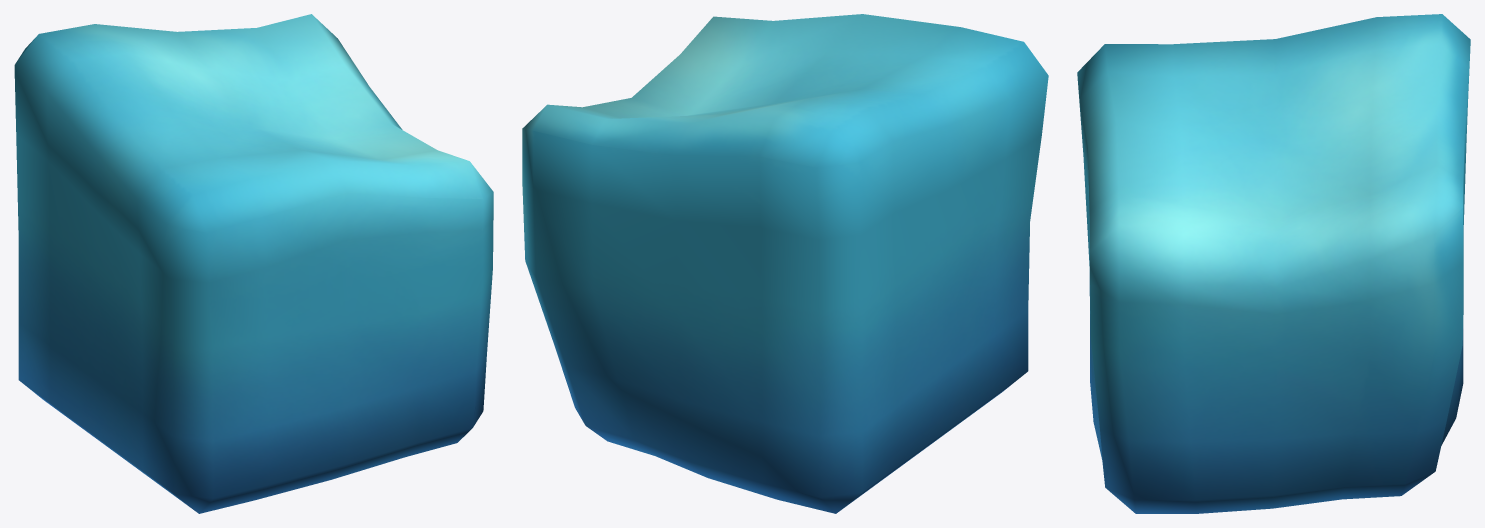
Rendered from icecube.fbx.
The picture shows the model from 3 angles, left to right: view 1: azimuth 30°, elevation 25°; view 2: azimuth 150°, elevation 25°; view 3: azimuth 270°, elevation 25°; orthographic projection. The views are drawn at different scales.
Parts seen in each view (by area): view 1: Cube; view 2: Cube; view 3: Cube.
Boxes of the visible parts, x1,y1,x2,y2 form: Cube: (14,14,493,513); Cube: (522,14,1048,513); Cube: (1077,14,1470,513).
Bounding box in the file's own units: 208 × 218 × 211.
